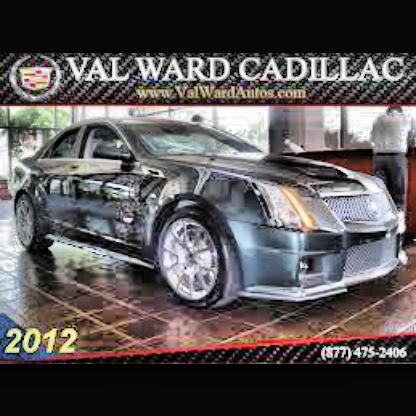Cadillac CTS-V Sedan 2012: (16, 118, 411, 315)
